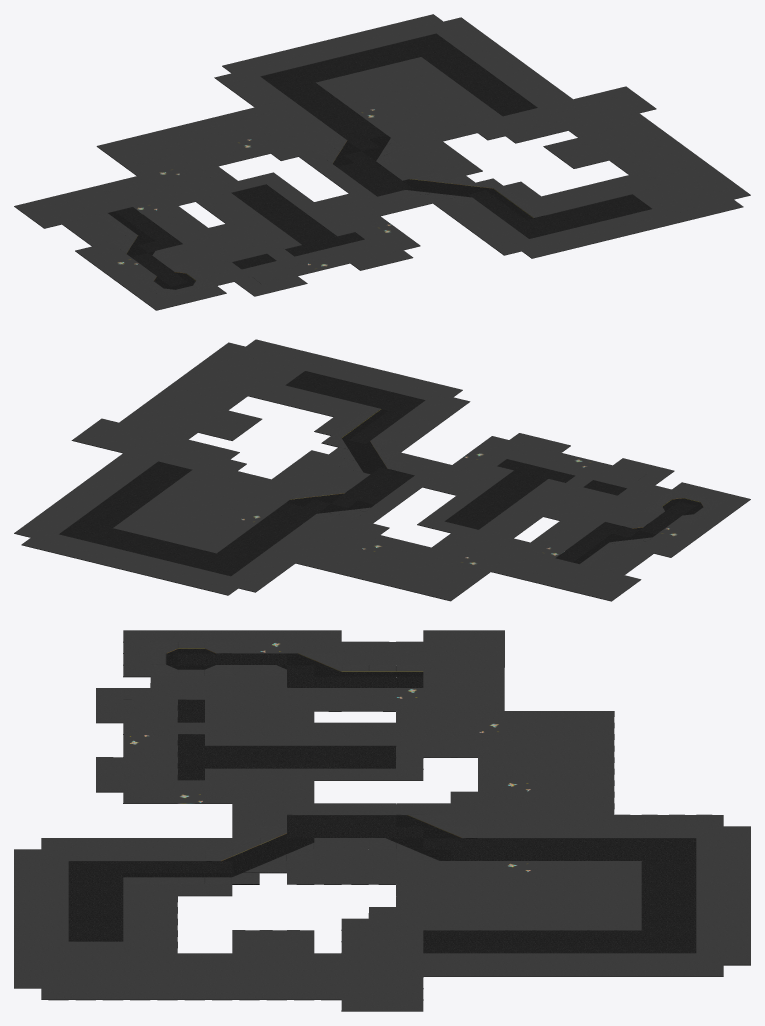
Rendered from street.obj.
The picture shows the model from 3 angles, top to bottom: view 1: azimuth 30°, elevation 25°; view 2: azimuth 150°, elevation 25°; view 3: azimuth 270°, elevation 25°; orthographic projection. The views are drawn at different scales.
Visible parts, largest first — view 1: Cube.229_Cube.240; view 2: Cube.229_Cube.240; view 3: Cube.229_Cube.240.
Part boxes in pixels (x1,y1,x2,y2): Cube.229_Cube.240: (14, 14, 750, 310); Cube.229_Cube.240: (14, 339, 750, 601); Cube.229_Cube.240: (14, 630, 750, 1011).
Size of the model in its own units: 650 by 0.6691 by 532.
Materials: 603 (603 with a texture image).
